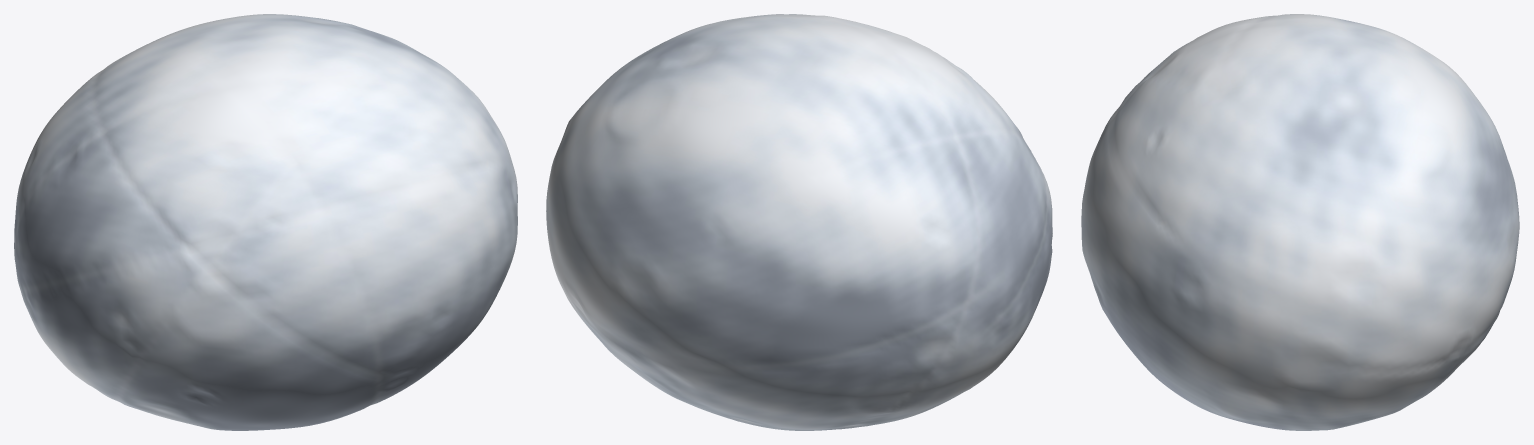
The model's file is hiiaka.glb.
3 renders of one model, left to right at view 1: azimuth 30°, elevation 25°; view 2: azimuth 150°, elevation 25°; view 3: azimuth 270°, elevation 25°, orthographic. The views are drawn at different scales.
Parts seen in each view (by area): view 1: hiiaka_body; view 2: hiiaka_body; view 3: hiiaka_body.
Part boxes in pixels (x1=…): hiiaka_body: x1=14, y1=14, x2=517, y2=430; hiiaka_body: x1=546, y1=14, x2=1052, y2=430; hiiaka_body: x1=1081, y1=14, x2=1519, y2=430.
Size of the model in its own units: 2.28 by 1.76 by 1.96.
1 material, 1 textured.
